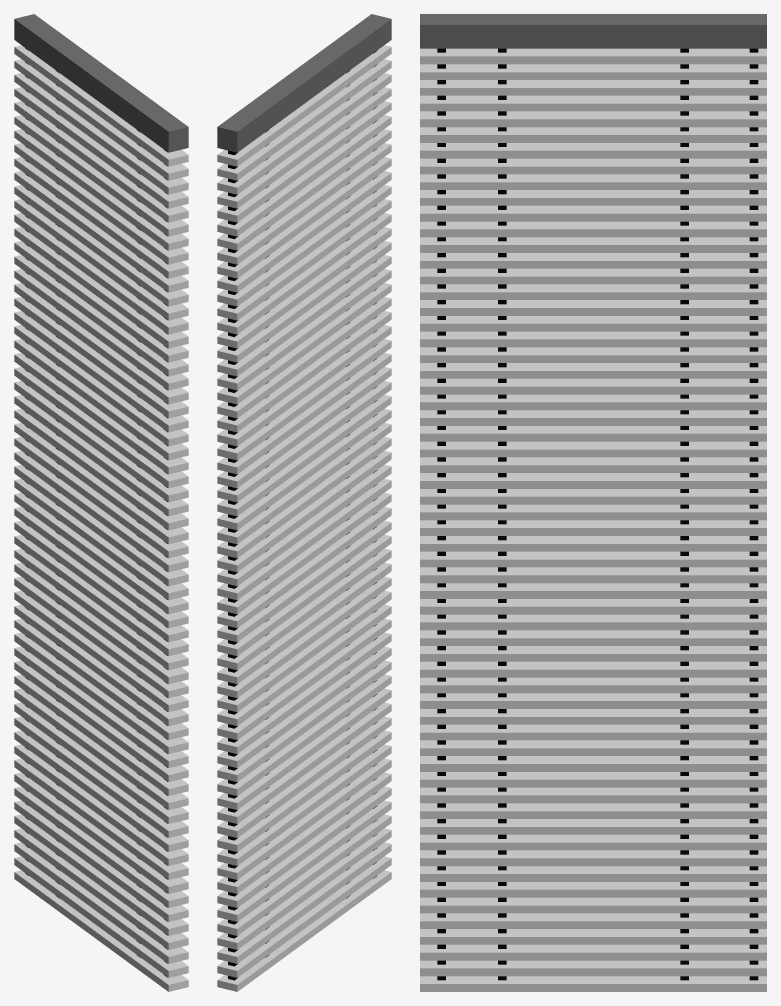
File: blinds_01.dae
3 renders of one model, left to right at view 1: azimuth 30°, elevation 25°; view 2: azimuth 150°, elevation 25°; view 3: azimuth 270°, elevation 25°, orthographic. The views are drawn at different scales.
Visible parts, largest first — view 1: Untitled; view 2: Untitled; view 3: Untitled.
Part boxes in pixels (x1=…): Untitled: x1=14, y1=14, x2=188, y2=991; Untitled: x1=217, y1=14, x2=391, y2=991; Untitled: x1=420, y1=14, x2=766, y2=991.
Bounding box in the file's own units: 0.09 × 1.2 × 3.69.
1 material, 1 textured.
